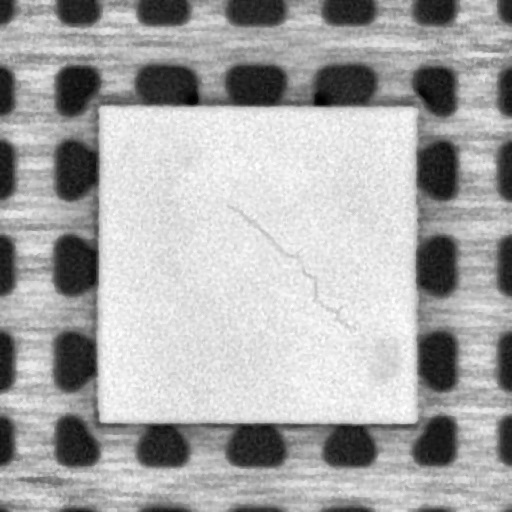DIE_CRACK: (223, 201, 347, 331)
